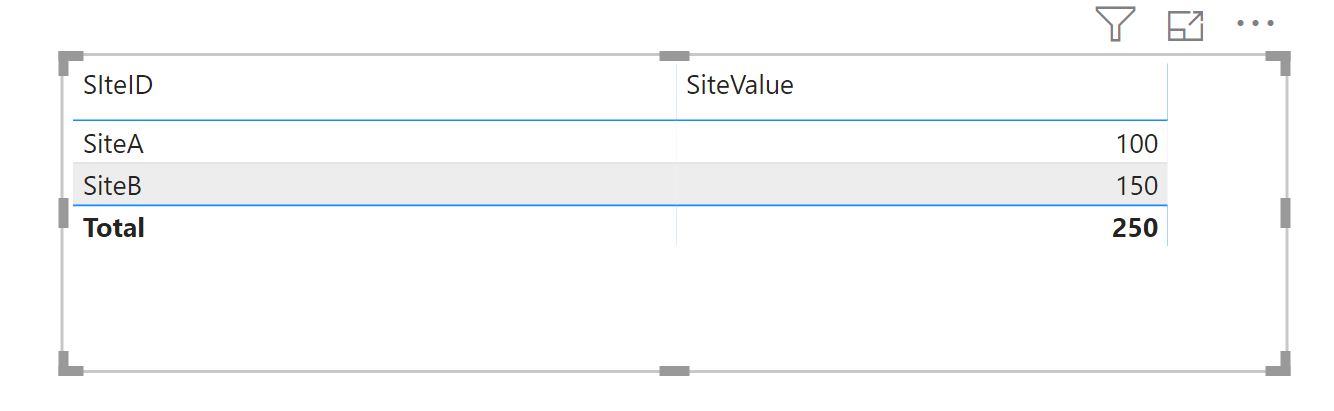

This screenshot's page, from the dashboard's own definition file:
{"tool":"powerbi","page":{"name":"Page 1","canvas":[1280,720],"ordinal":0},"visuals":[{"type":"tableEx","fields":{"Values":["SitesAndUsrPerm.SIteID","Sum(SitesAndUsrPerm.SiteValue)"]},"box":[334.3,246.1,610.2,159.1],"z":0}]}

Visuals, with their boxes in screenshot pixels (x1, y1, x2, y2):
tableEx - SitesAndUsrPerm.SIteID x Sum(SitesAndUsrPerm.SiteValue): bbox=(778, 114, 1121, 203)
